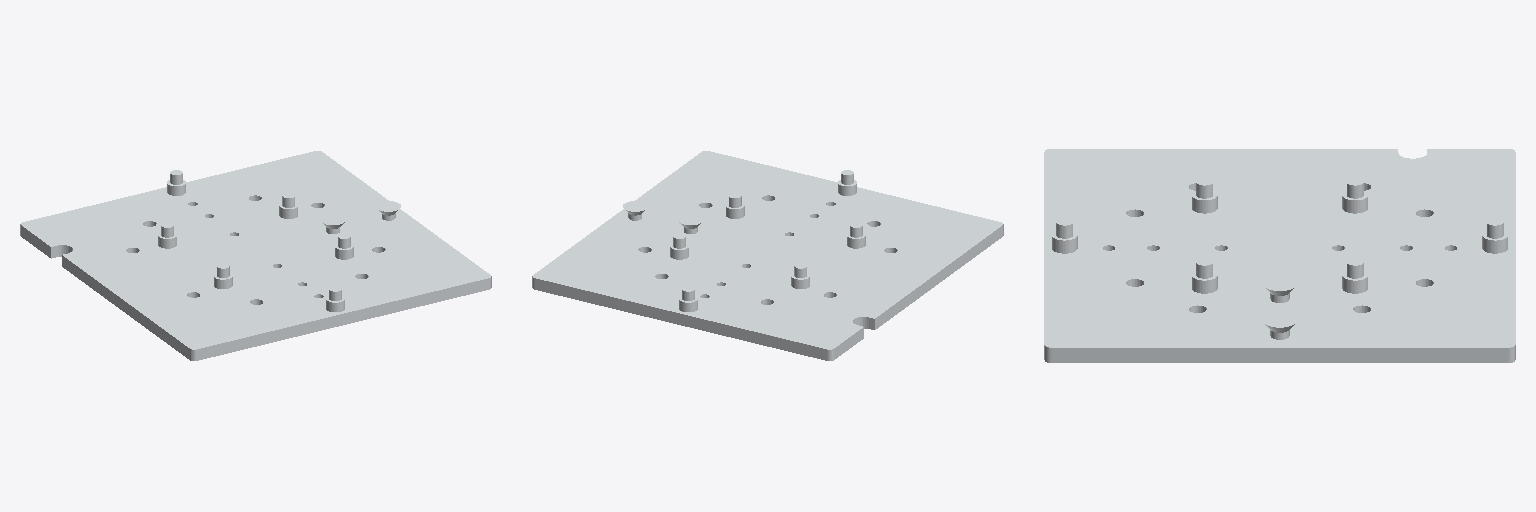
The robot description file, URDF, robot "icim_pallet_pins":
<?xml version="1.0" encoding="utf-8"?>
<!-- This URDF was automatically created by SolidWorks to URDF Exporter! Originally created by [author] ([email redacted]) 
     Commit Version: 1.6.0-1-g15f4949  Build Version: 1.6.7594.29634
     For more information, please see http://wiki.ros.org/sw_urdf_exporter -->
<robot name="icim_pallet_pins">
  <link name="icim_pallet_pins">
    <inertial>
      <origin xyz="0.00052664 -0.00012443 0.0031604" rpy="0 0 0" />
      <mass value="0.42982" />
      <inertia ixx="0.00093363" ixy="-4.1861E-06" ixz="-6.3835E-07" iyy="0.00094362" iyz="-2.0712E-09" izz="0.0018745" />
    </inertial>
    <visual>
      <origin xyz="0 0 0" rpy="0 0 0" />
      <geometry>
        <mesh filename="package://icim_pallet/meshes/icim_pallet_pins.STL" />
      </geometry>
      <material name="">
        <color rgba="0.89804 0.91765 0.92941 1" />
      </material>
    </visual>
    <collision>
      <origin xyz="0 0 0" rpy="0 0 0" />
      <geometry>
        <mesh filename="package://icim_pallet/meshes/icim_pallet_pins.STL" />
      </geometry>
    </collision>
  </link>
</robot>

--- Render facts (derived) ---
3 views of the same robot in one strip: view 1: azimuth 30°, elevation 25°; view 2: azimuth 150°, elevation 25°; view 3: azimuth 270°, elevation 25° (orthographic).
Robot: icim_pallet_pins — 1 links, 0 joints (none); root link icim_pallet_pins; default pose: every joint at zero.
Visible links, largest first — view 1: icim_pallet_pins; view 2: icim_pallet_pins; view 3: icim_pallet_pins.
Link boxes in pixels (x1,y1,x2,y2): icim_pallet_pins: [20, 151, 491, 360]; icim_pallet_pins: [532, 151, 1003, 360]; icim_pallet_pins: [1044, 149, 1515, 362].
Bounding box of the posed robot: 0.163 × 0.163 × 0.016 m (x, y, z).
Meshes: 1 distinct files referenced, 1 mesh visuals loaded (1 binary STL).
